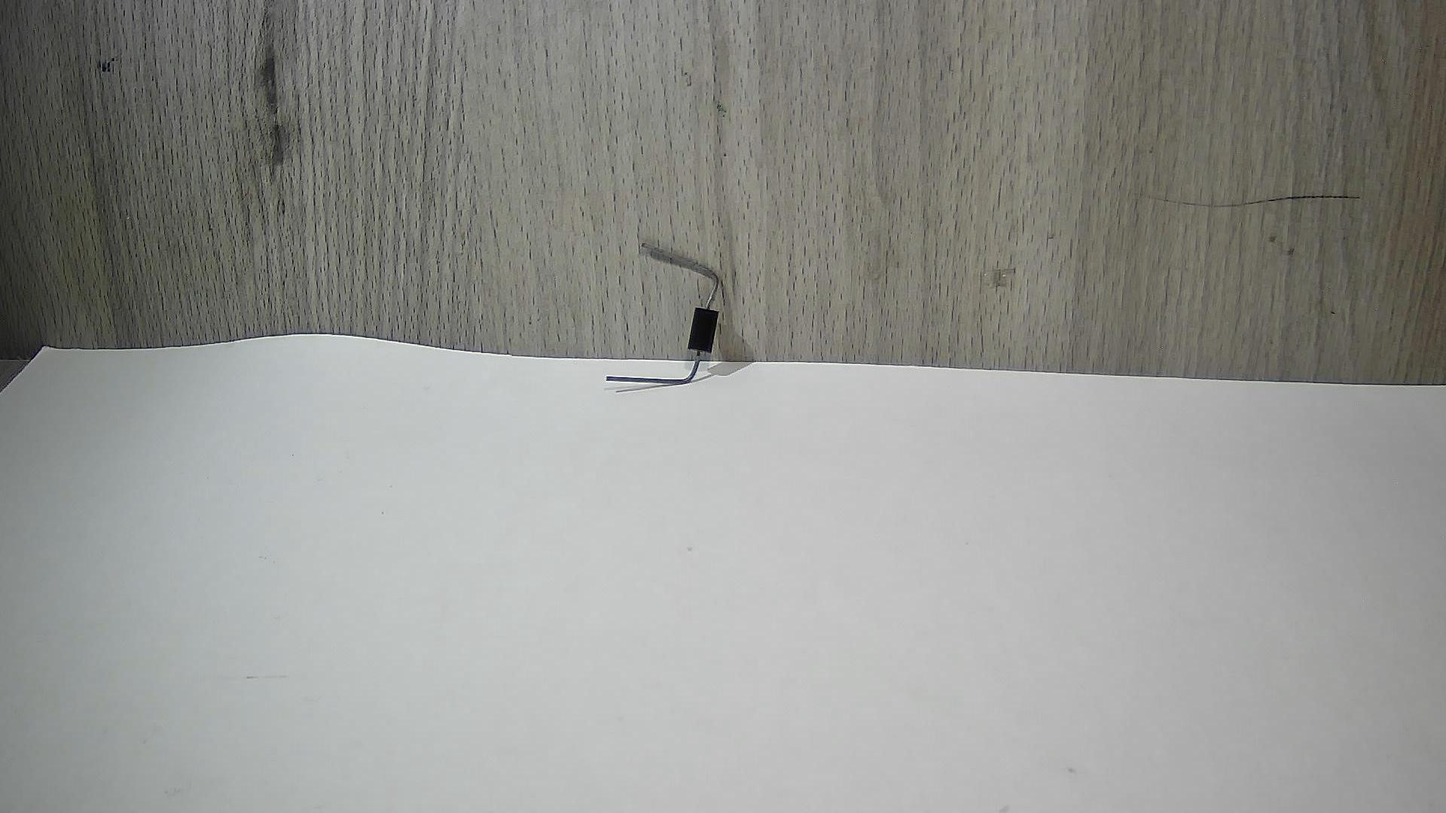Diodo: (595, 211, 756, 419)
